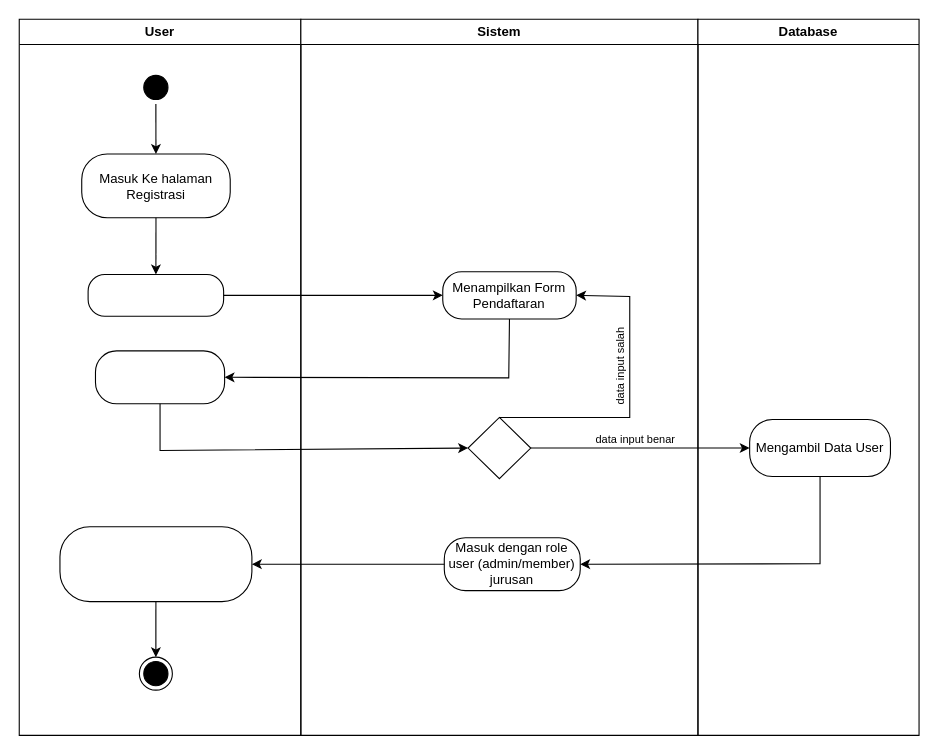
This 938x755 diagram has some shape labels left out. Here are the shapes that lost their labels. From the top down, the centre of each, then its label:
At (x=155, y=294): "Daftar Akun".
At (x=159, y=377): "Isi Pendaftaran".
At (x=499, y=447): "Cek Data".
At (x=155, y=564): "Masuk ke halaman login".
